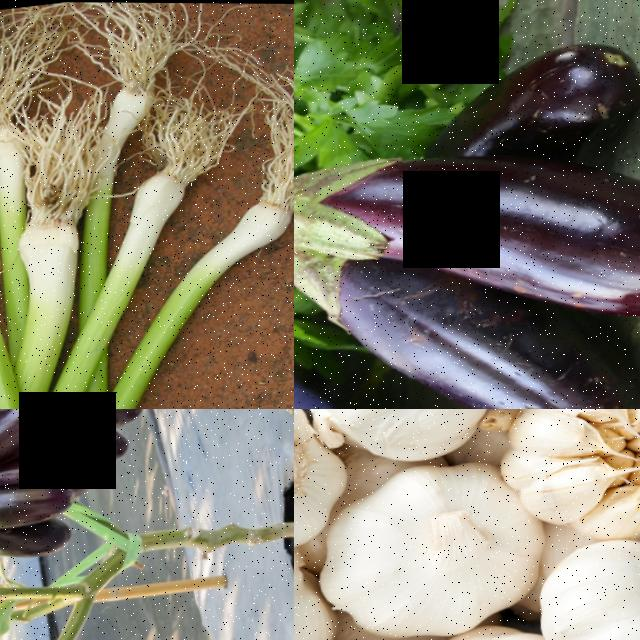eggplant: (294, 115, 640, 356), (354, 292, 640, 409), (427, 29, 640, 155), (0, 473, 81, 533), (0, 514, 85, 568), (0, 409, 46, 483)
garlic: (309, 452, 551, 640), (501, 409, 640, 548), (531, 525, 640, 640), (294, 409, 496, 469), (294, 409, 350, 572)
